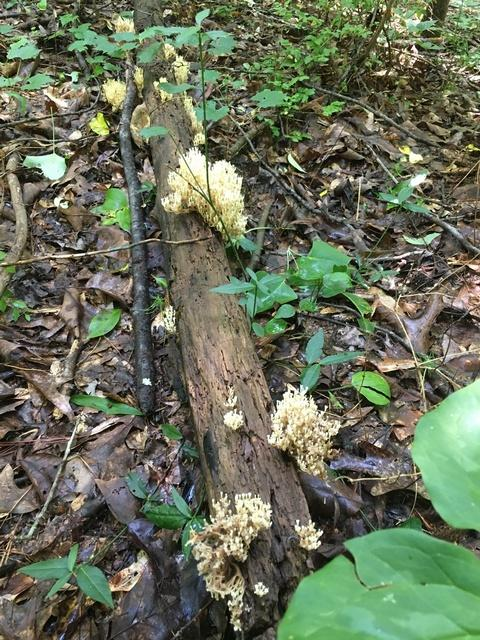edible_mushroom: (187, 486, 276, 592), (159, 146, 248, 240), (268, 380, 337, 480)
